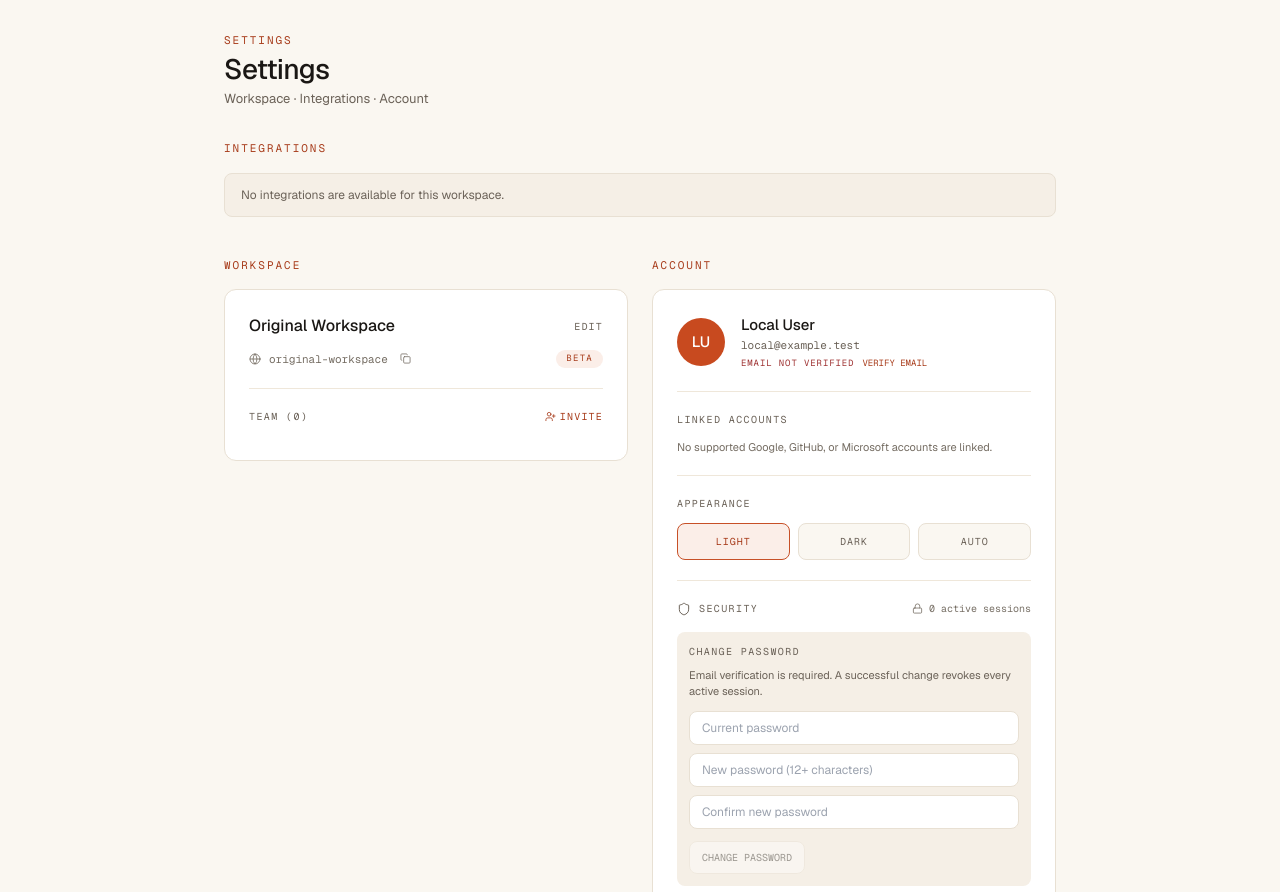
Settings workspace persistence › persists appearance before applying it and keeps the old theme on rejection
Click the button "dark".
click(854, 542)  # box [798,523,910,560]
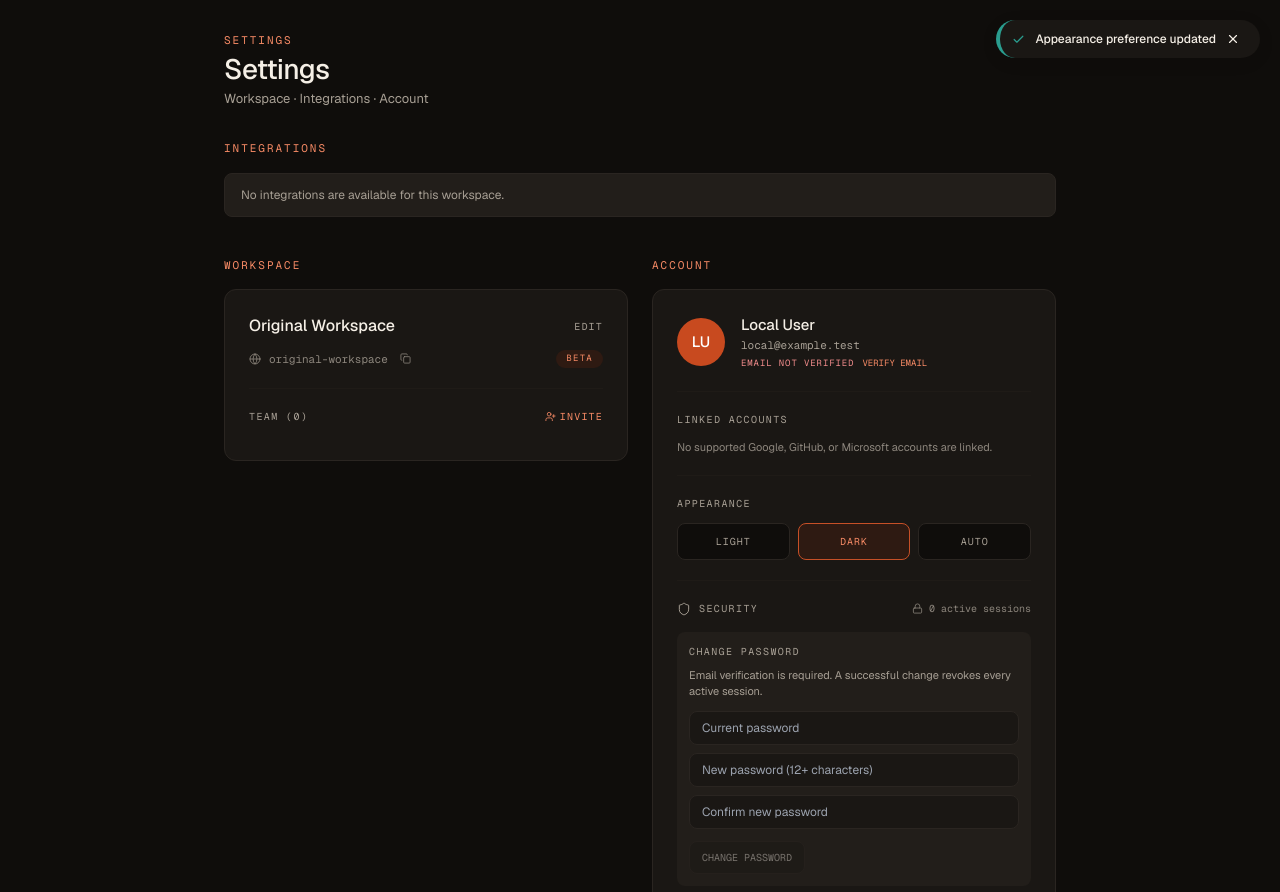
Expected: the button "dark" is pressed, [798,523,910,560]
Click the button "auto".
click(975, 542)  # box [918,523,1031,560]
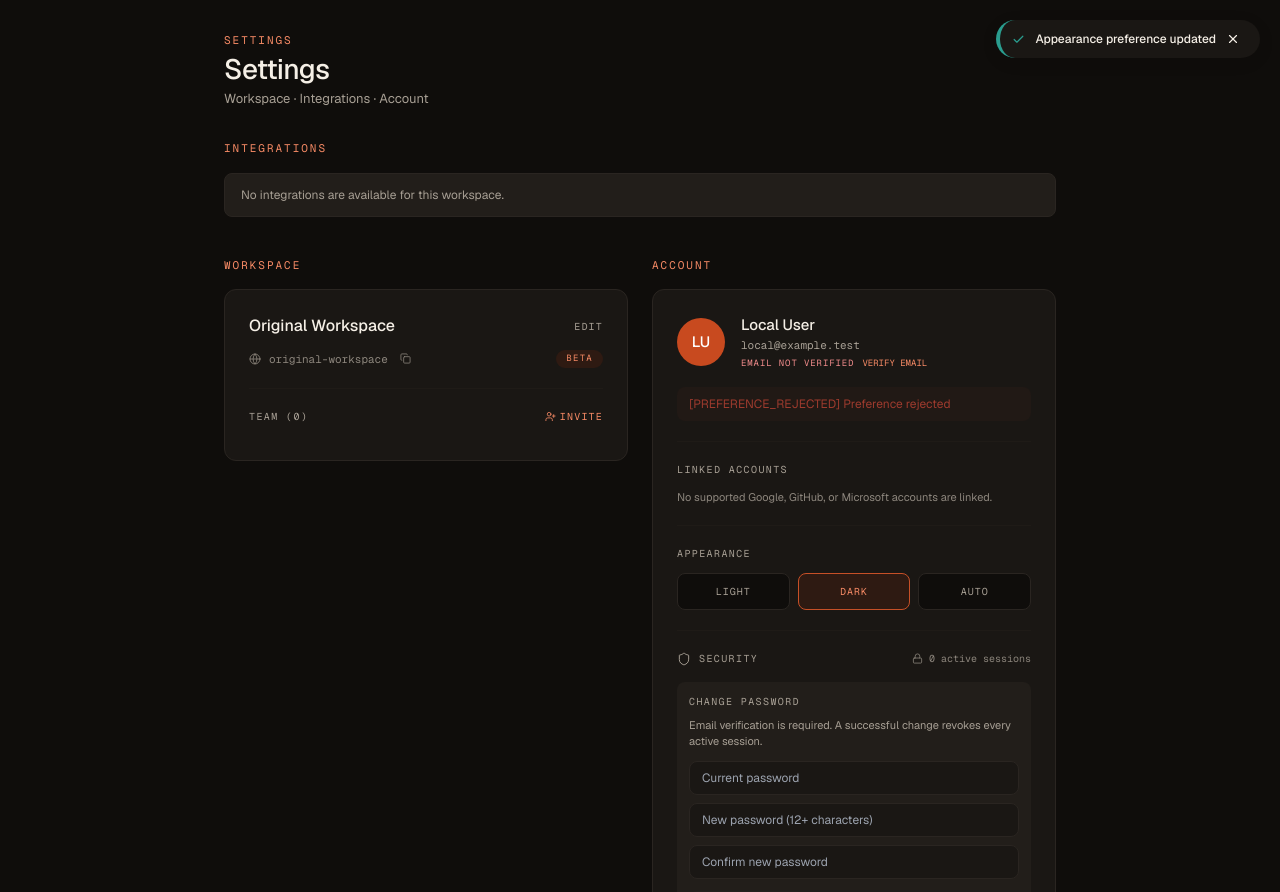
Expected: the text "[PREFERENCE_REJECTED] Preference rejected" is shown, [677,386,1031,420]
